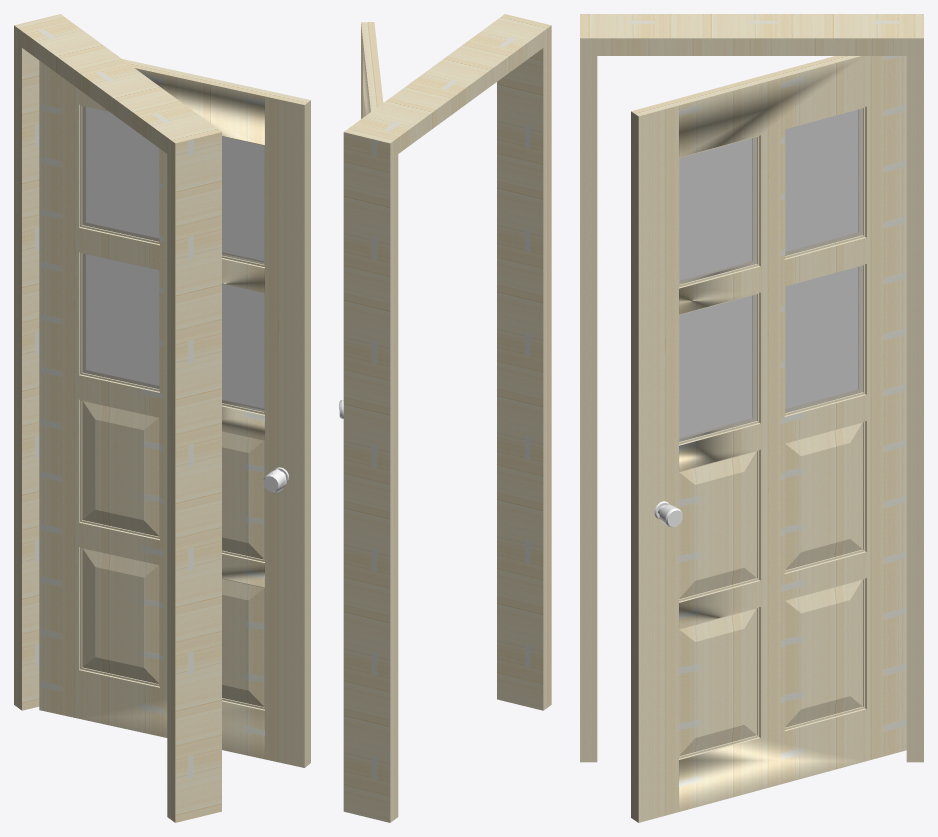
3 renders of one model, left to right at view 1: azimuth 30°, elevation 25°; view 2: azimuth 150°, elevation 25°; view 3: azimuth 270°, elevation 25°, orthographic. The views are drawn at different scales.
Visible parts, largest first — view 1: Mesh1_DoorKnob1_FlushDoor36_3_1_Door_D100_semi_glass_1_1_Model; view 2: Mesh1_DoorKnob1_FlushDoor36_3_1_Door_D100_semi_glass_1_1_Model; view 3: Mesh1_DoorKnob1_FlushDoor36_3_1_Door_D100_semi_glass_1_1_Model.
Part boxes in pixels (box(x1,y1,x2,y2)): Mesh1_DoorKnob1_FlushDoor36_3_1_Door_D100_semi_glass_1_1_Model: box(14, 14, 310, 822); Mesh1_DoorKnob1_FlushDoor36_3_1_Door_D100_semi_glass_1_1_Model: box(339, 14, 551, 822); Mesh1_DoorKnob1_FlushDoor36_3_1_Door_D100_semi_glass_1_1_Model: box(580, 14, 923, 822).
Bounding box in the file's own units: 0.264 × 1 × 0.4319.
